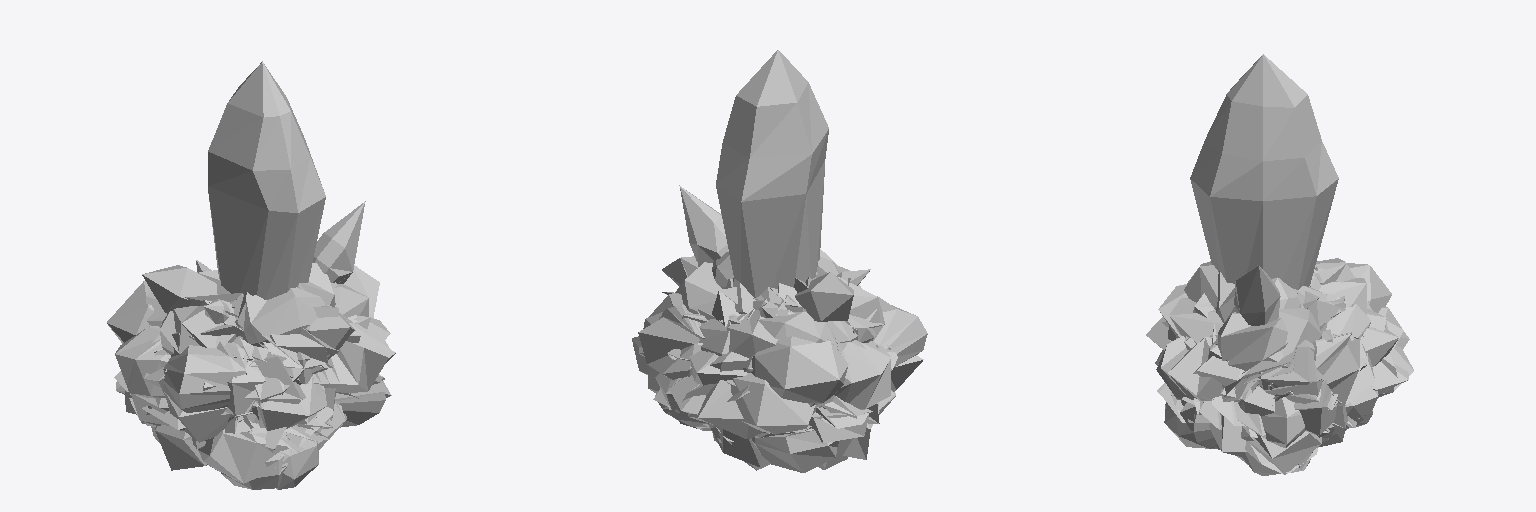
Rendered from end_crystal_mystic.obj.
The picture shows the model from 3 angles: view 1: azimuth 30°, elevation 25°; view 2: azimuth 150°, elevation 25°; view 3: azimuth 270°, elevation 25°; orthographic projection.
Parts seen in each view (by area): view 1: Cube.001, Circle; view 2: Cube.001, Circle; view 3: Cube.001, Circle.
Part boxes in pixels (x1,y1,x2,y2): Cube.001: (107,263,395,489); Circle: (142,61,365,323); Cube.001: (632,249,927,472); Circle: (679,50,870,321); Cube.001: (1146,258,1413,475); Circle: (1190,54,1345,325).
Bounding box in the file's own units: 0.7393 × 1.11 × 0.6744.